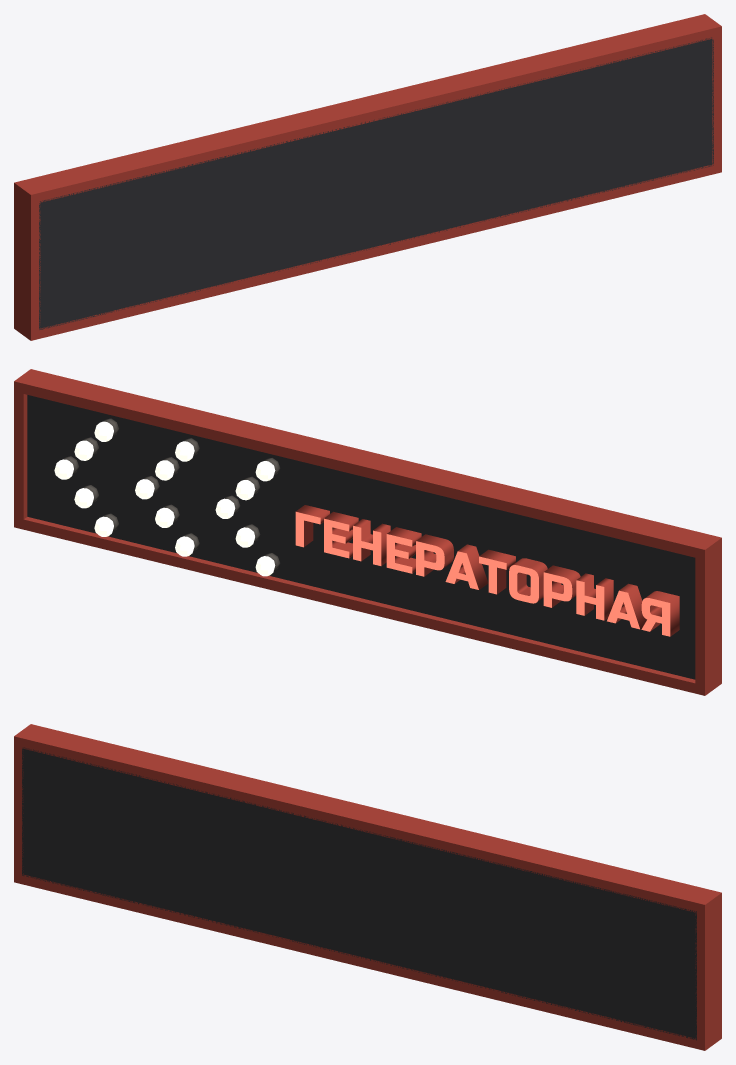
File: arrow_generator_left.glb
3 renders of one model, top to bottom at view 1: azimuth 30°, elevation 25°; view 2: azimuth 150°, elevation 25°; view 3: azimuth 330°, elevation 25°, orthographic.
Visible parts, largest first — view 1: Sign; view 2: Sign, BulbsA, BulbsB; view 3: Sign.
Boxes of the visible parts, x1,y1,x2,y2 form: Sign: [14, 14, 721, 340]; Sign: [14, 369, 721, 695]; BulbsA: [54, 421, 275, 576]; BulbsB: [135, 441, 194, 556]; Sign: [14, 724, 721, 1050].
Size of the model in its own units: 4.26 by 0.86 by 0.268.
